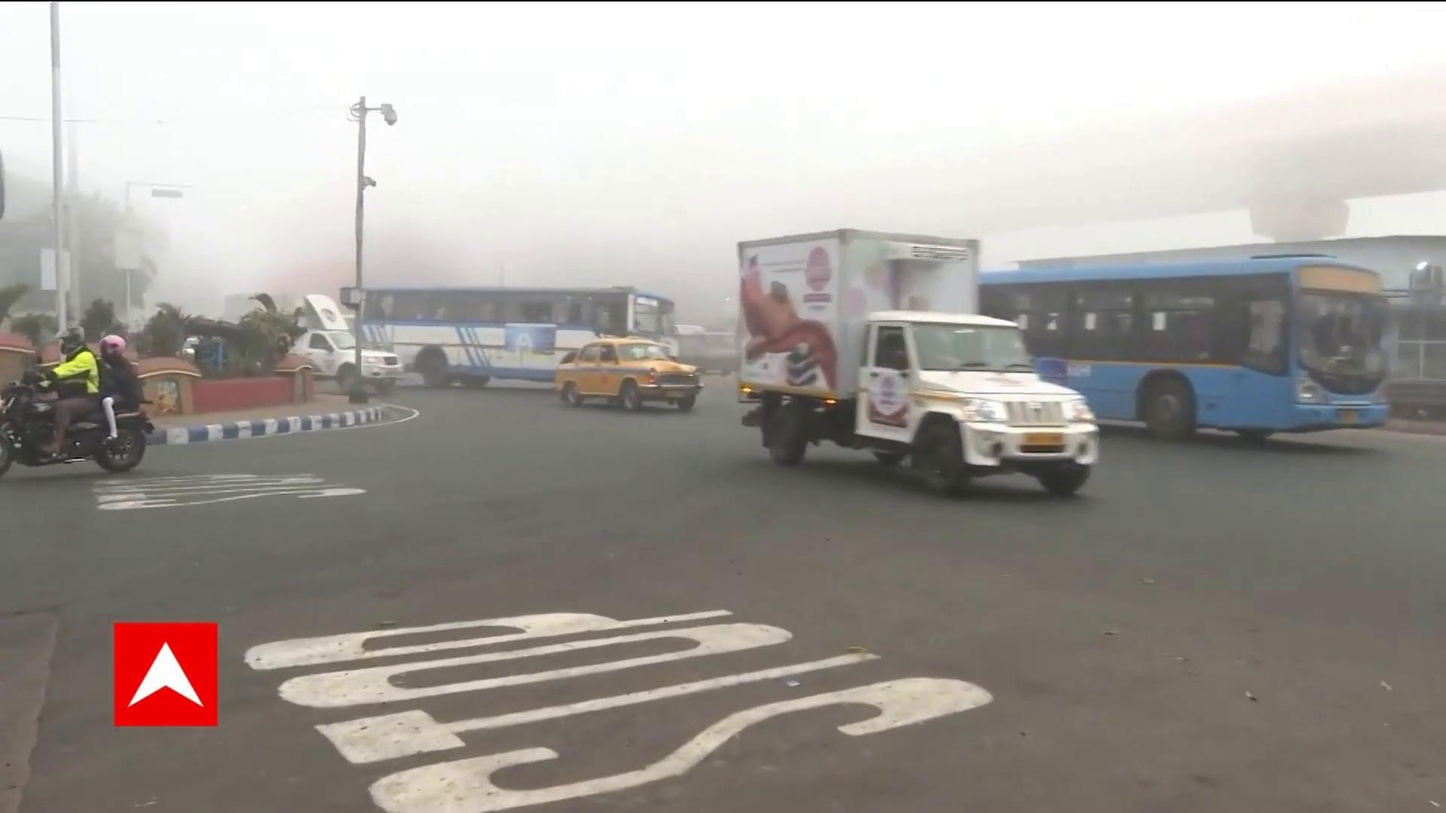Bike: (0, 326, 158, 490)
Bus: (983, 242, 1393, 447), (360, 281, 685, 404)
Car: (552, 337, 707, 412)
Truck: (729, 221, 1101, 502)
